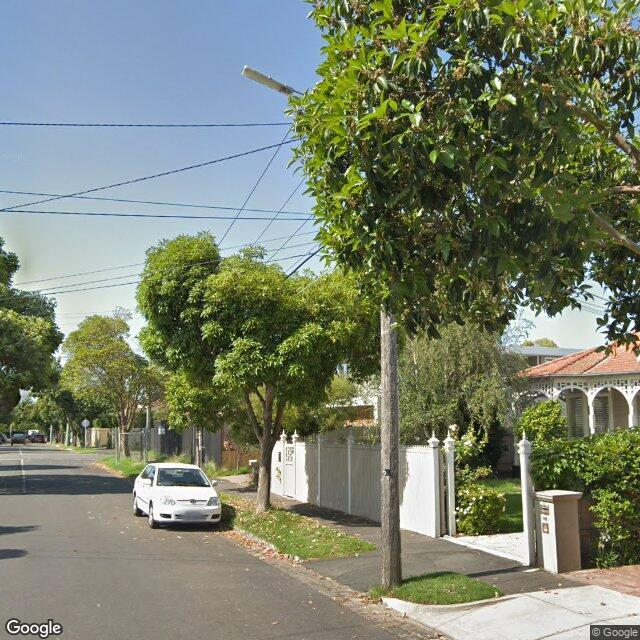streetlight: (241, 64, 309, 97)
timber-pole: (379, 304, 404, 588)
